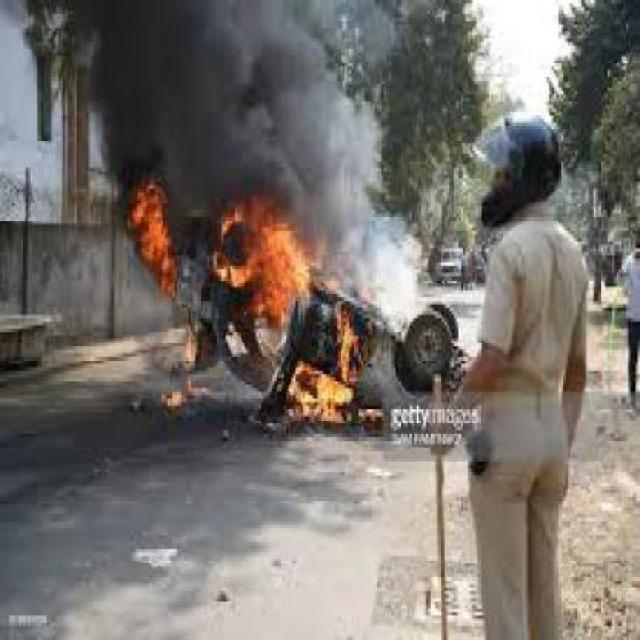fire: (123, 162, 385, 430)
